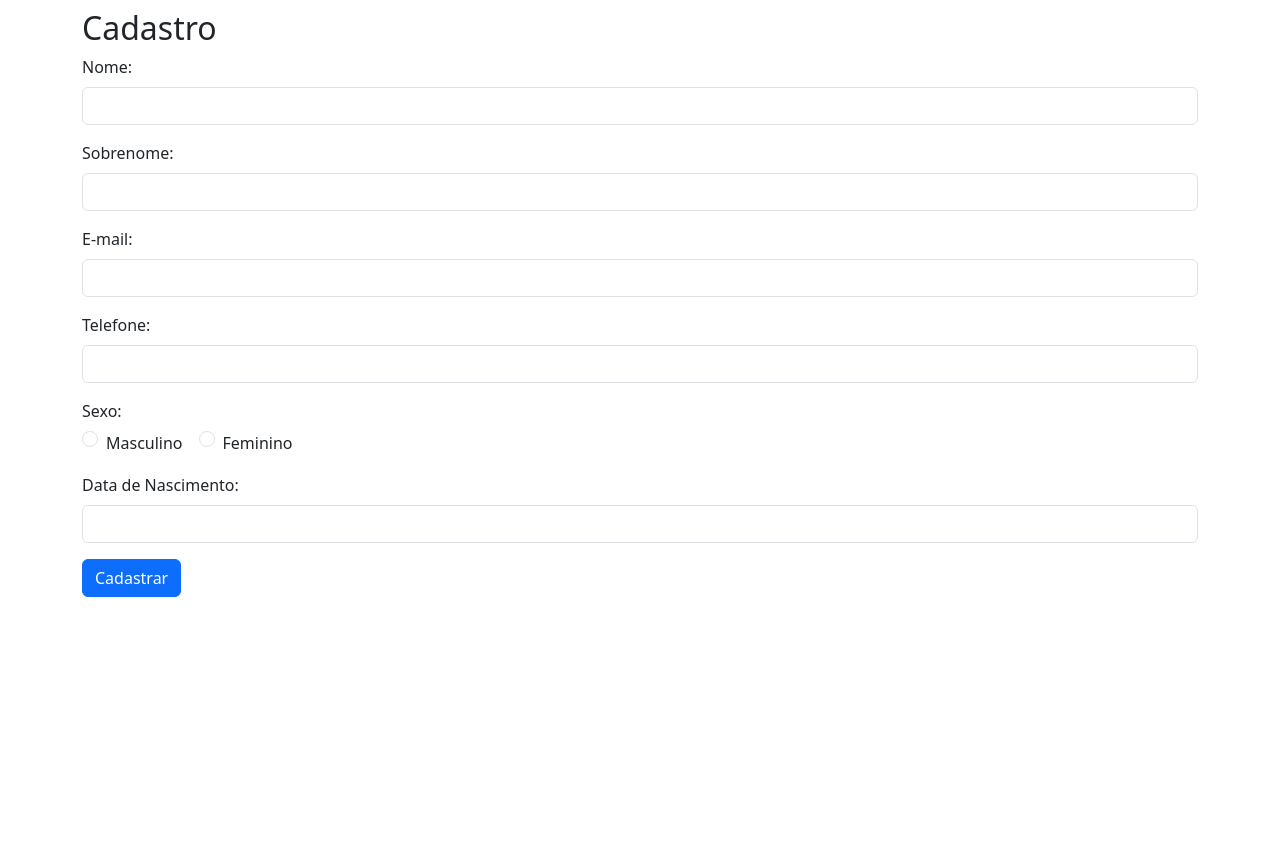
it: FormComponent › preenche e exibe os dados submetidos
This screenshot has width=1280, height=861.
Type "Kauã" into the field labelled "Nome:" at (640, 106), box [82,87,1198,125]
Type "Azevedo" into the field labelled "Sobrenome:" at (640, 192), box [82,173,1198,211]
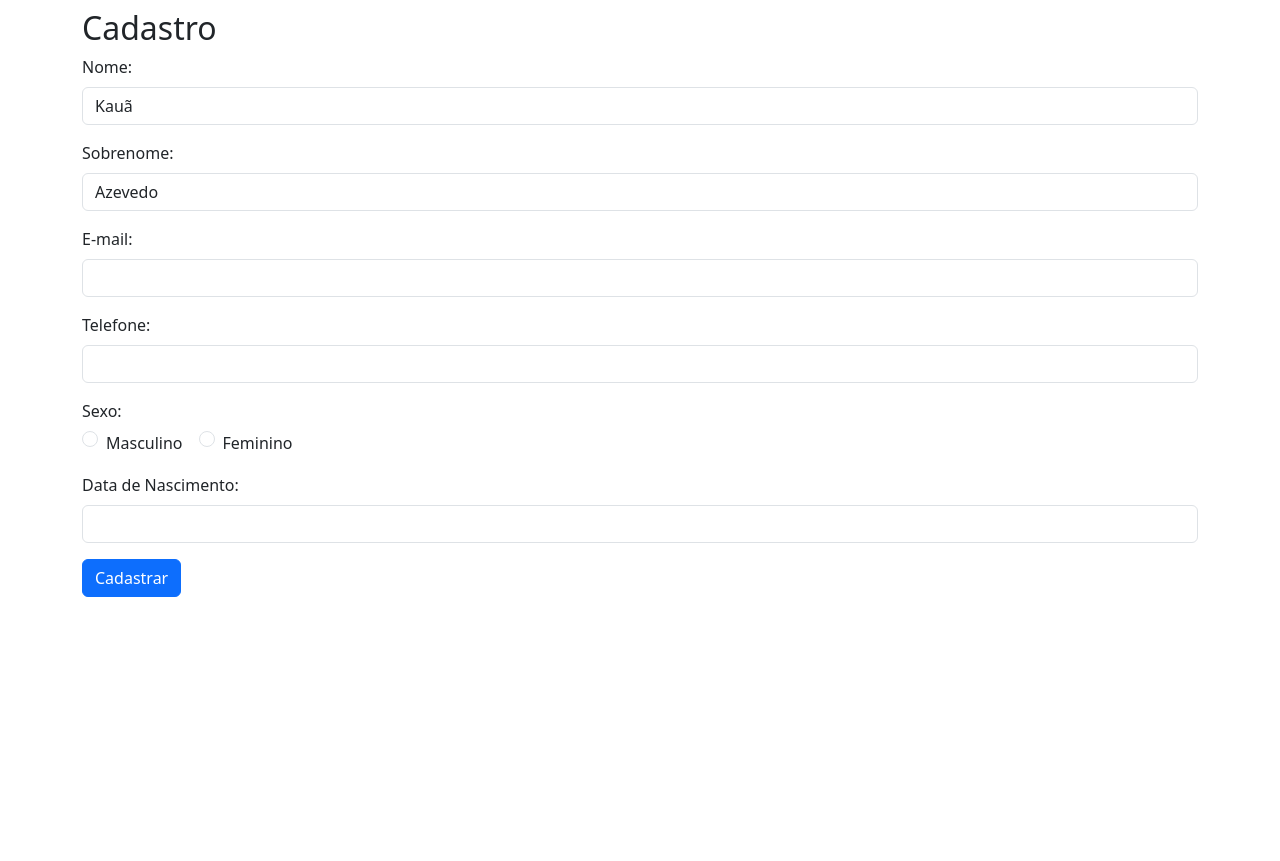
Type "kaua@email.com" into the field labelled "E-mail:" at (640, 278), box [82,259,1198,297]
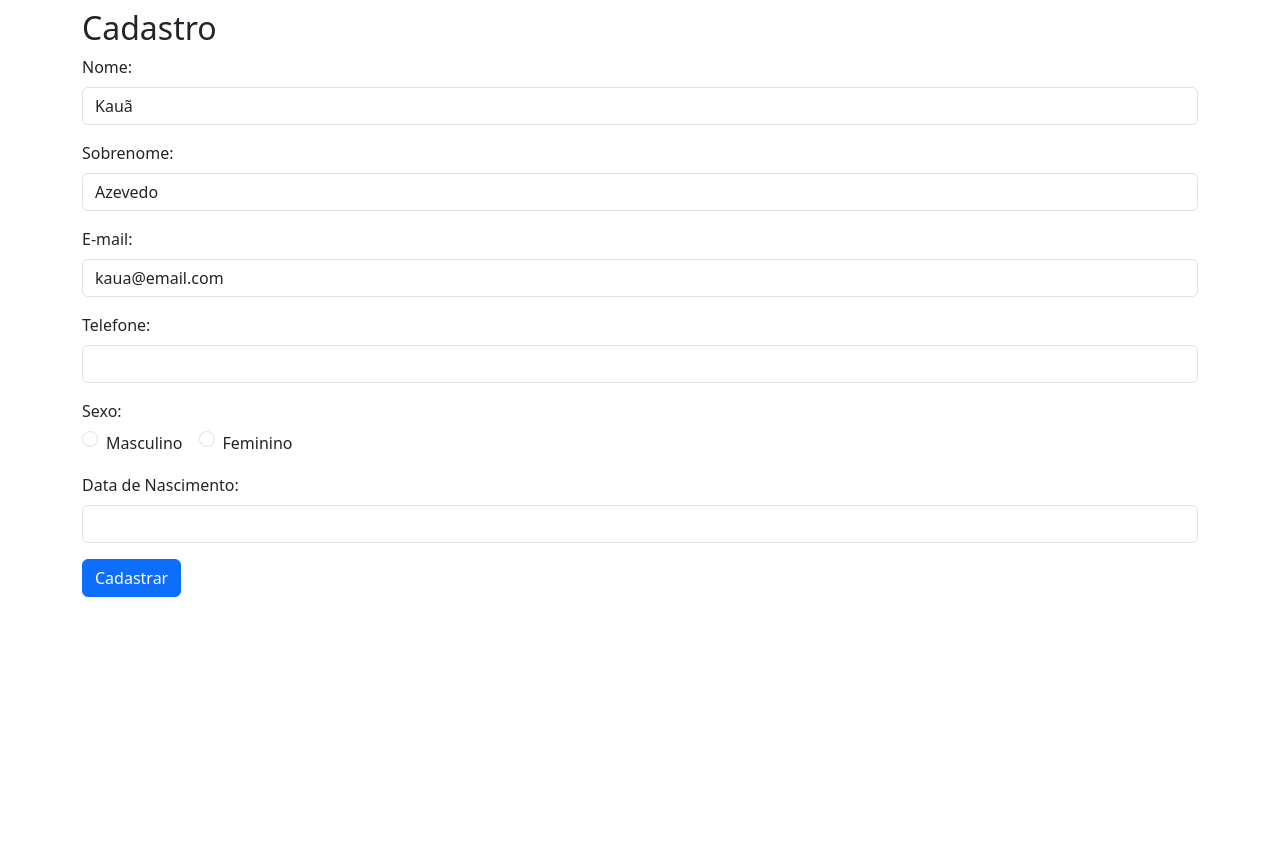
Type "64999101001" into the field labelled "Telefone:" at (640, 364), box [82,345,1198,383]
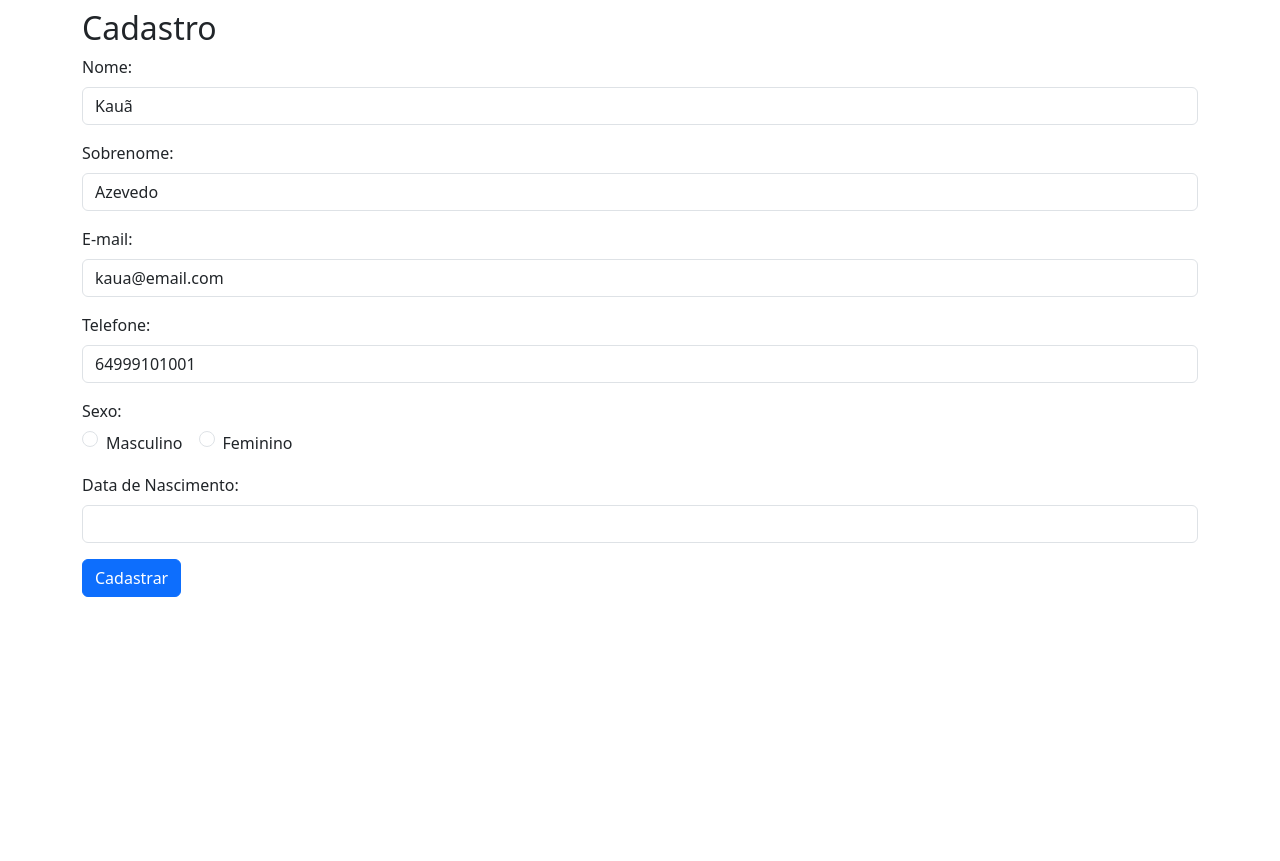
Click the radio button labelled "Masculino" at (90, 439), box [82,431,98,447]
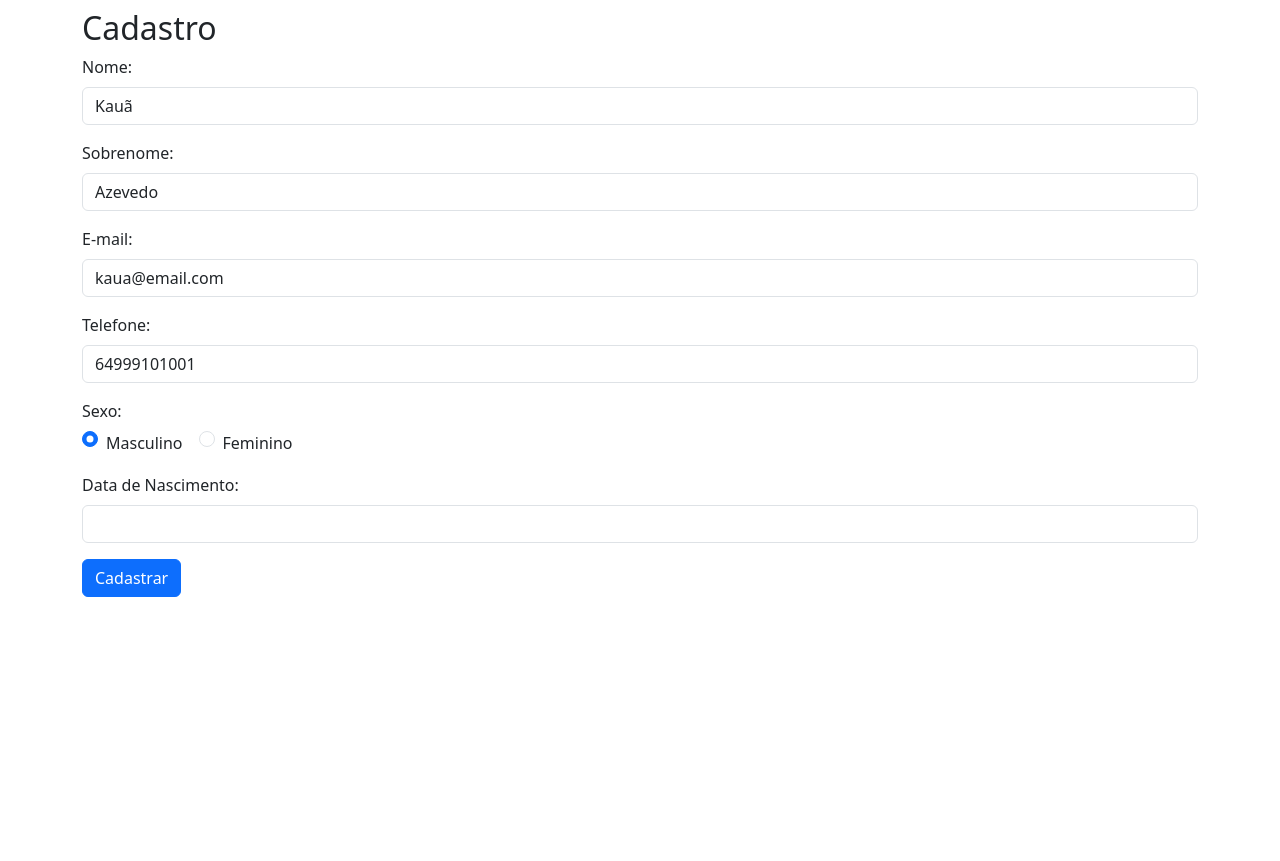
Type "21/06/2000" into the field labelled "Data de Nascimento:" at (640, 524), box [82,505,1198,543]
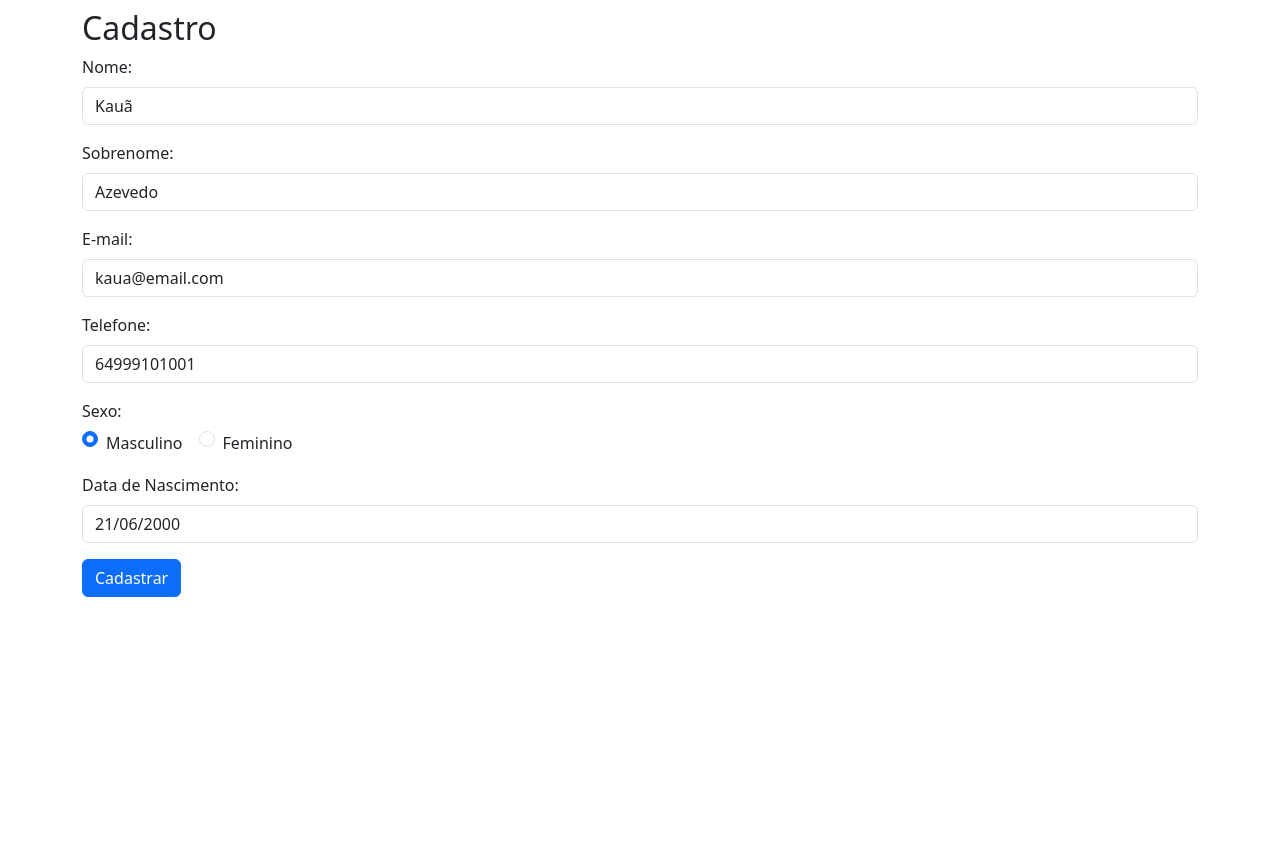
Click the button "Cadastrar" at (132, 578), box [82,559,181,597]
(page scrolled)
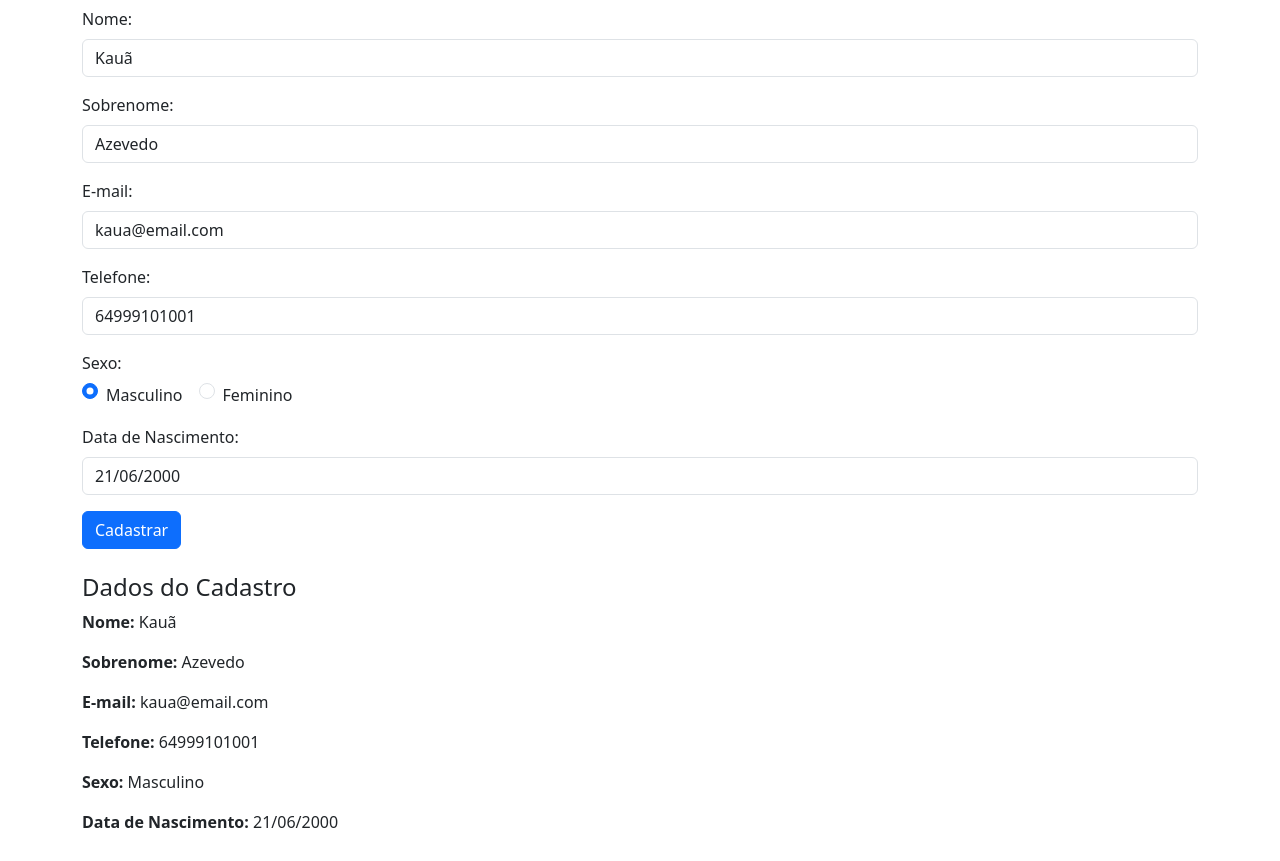
Now the element with test id "dados-cadastrados" shows "Kauã", box [139,611,177,633]
Now the element with test id "dados-cadastrados" shows "Azevedo", box [182,651,245,673]
Now the element with test id "dados-cadastrados" shows "kaua@email.com", box [140,691,269,713]
